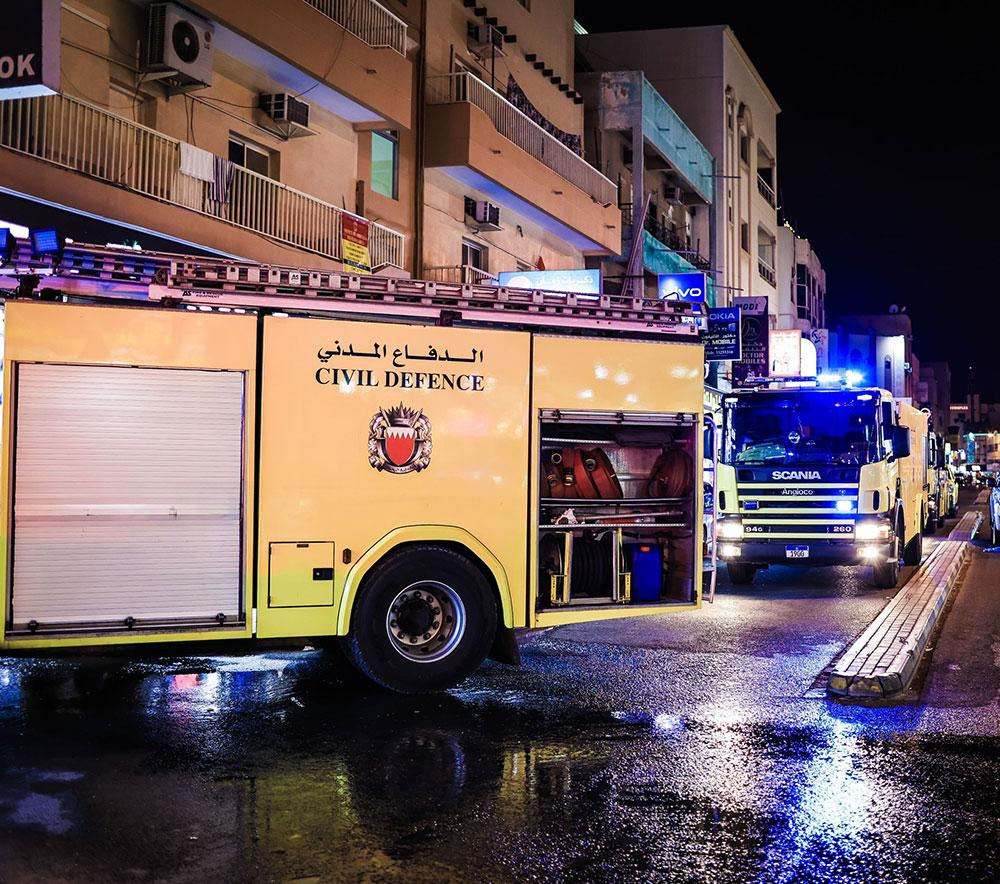firetruck_on: (700, 372, 927, 594)
